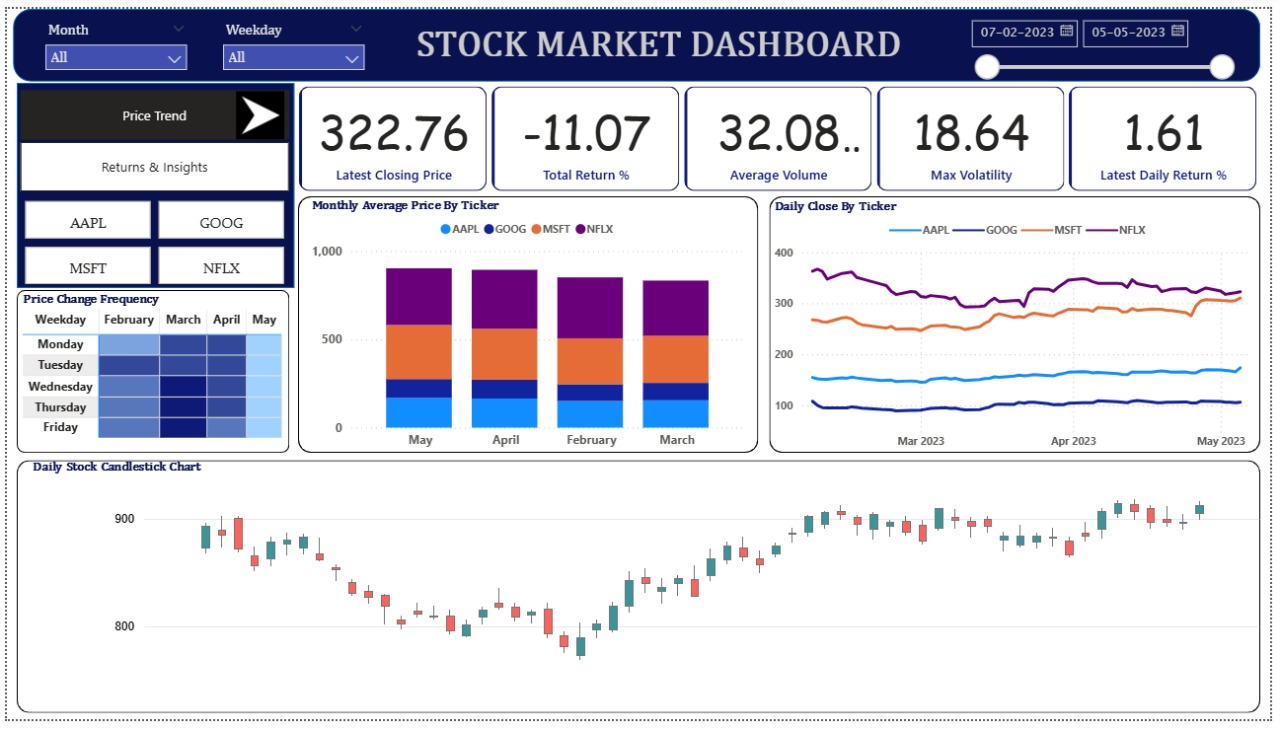

The page's visual inventory and layout, read from the dashboard file:
{"tool":"powerbi","page":{"name":"Price Trend","canvas":[1280,720],"ordinal":0},"visuals":[{"type":"shape","box":[6.2,0,1263.8,73.8],"z":0},{"type":"textbox","box":[385,11.2,551.2,55],"z":1000},{"type":"cardVisual","fields":{"Data":["stocks.Latest Closing Price","stocks.Total Return %","stocks.Average Volume","stocks.Max Volatility","stocks.Latest Daily Return %"]},"box":[291.2,73.8,983.8,116.2],"z":2000},{"type":"shape","box":[772.5,190,497.5,260],"z":3000},{"type":"shape","box":[10,457.5,1260,256.2],"z":4000},{"type":"shape","box":[9.8,284.9,276.4,165.1],"z":5000},{"type":"lineChart","title":"Daily Close By Ticker","fields":{"Y":["Sum(stocks.Close)"],"Category":["stocks.Date"],"Series":["stocks.Ticker"]},"box":[772.5,193.2,507.5,261.7],"z":6000},{"type":"PBI_CV_886A053E_9DFD_4EA0_A47D_CCAEB89AF969","title":"Daily Stock Candlestick Chart","fields":{"open":["Sum(stocks.Open)"],"close":["Sum(stocks.Close)"],"low":["Sum(stocks.Low)"],"high":["Sum(stocks.High)"],"Category":["stocks.Date"]},"box":[20.8,457.3,1259.5,256.8],"z":7000},{"type":"shape","box":[295,190,466.2,260],"z":8000},{"type":"columnChart","title":"Monthly Average Price By  Ticker","fields":{"Category":["stocks.Month"],"Y":["Avg(stocks.Close)"],"Series":["stocks.Ticker"]},"box":[303.3,192,450,261.7],"z":9000},{"type":"pivotTable","title":"Price Change Frequency","fields":{"Columns":["stocks.Month"],"Rows":["stocks.Weekday"],"Values":["Count(stocks.Price Change %)"]},"box":[11,287.4,275.1,160.2],"z":10000},{"type":"shape","box":[9.8,74.6,281.3,207.9],"z":11000},{"type":"advancedSlicerVisual","fields":{"Values":["stocks.Ticker"]},"box":[13.8,190,272.5,95],"z":12000},{"type":"slicer","fields":{"Values":["stocks.Month"]},"box":[28.8,7.5,163.8,58.8],"z":13000},{"type":"slicer","fields":{"Values":["stocks.Weekday"]},"box":[208.8,7.5,163.8,58.8],"z":14000},{"type":"slicer","fields":{"Values":["stocks.Date"]},"box":[965,1.2,287.5,72.5],"z":15000},{"type":"pageNavigator","box":[13.8,82.5,272.5,50],"z":16000},{"type":"pageNavigator","box":[13.8,135,272.5,50],"z":17000},{"type":"image","box":[227.4,75.8,58.7,63.6],"z":18000}]}

Visuals, with their boxes in screenshot pixels (x1, y1, x2, y2), scaled from the page's 1280x720 canvas onto the 1280x729 screenshot:
shape: [6, 0, 1270, 75]
textbox: [385, 11, 936, 67]
cardVisual - stocks.Latest Closing Price x stocks.Total Return %: [291, 75, 1275, 192]
shape: [772, 192, 1270, 456]
shape: [10, 463, 1270, 723]
shape: [10, 288, 286, 456]
"Daily Close By Ticker" lineChart: [772, 196, 1279, 461]
"Daily Stock Candlestick Chart" PBI_CV_886A053E_9DFD_4EA0_A47D_CCAEB89AF969: [21, 463, 1279, 723]
shape: [295, 192, 761, 456]
"Monthly Average Price By  Ticker" columnChart: [303, 194, 753, 459]
"Price Change Frequency" pivotTable: [11, 291, 286, 453]
shape: [10, 76, 291, 286]
advancedSlicerVisual - stocks.Ticker: [14, 192, 286, 289]
slicer - stocks.Month: [29, 8, 193, 67]
slicer - stocks.Weekday: [209, 8, 373, 67]
slicer - stocks.Date: [965, 1, 1252, 75]
pageNavigator: [14, 84, 286, 134]
pageNavigator: [14, 137, 286, 187]
image: [227, 77, 286, 141]
